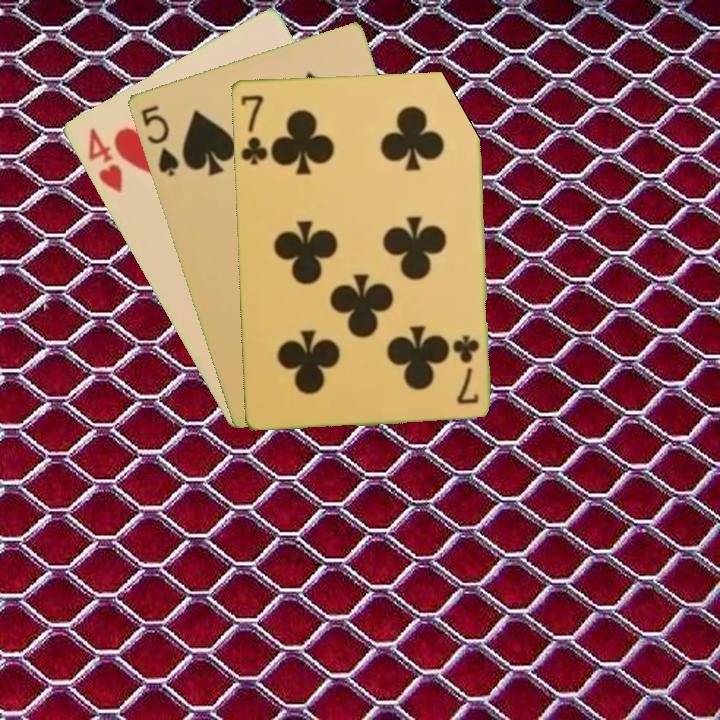4h: (83, 124, 125, 196)
5s: (137, 101, 182, 179)
7c: (237, 91, 270, 168), (450, 331, 481, 406)
